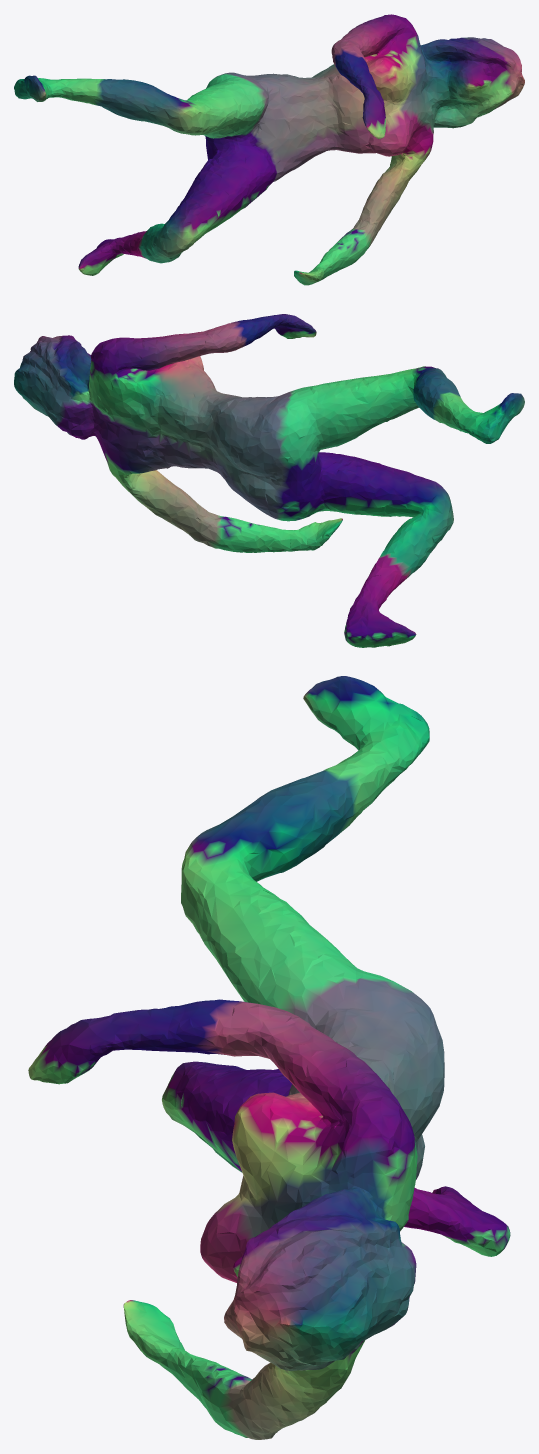
Rendered from woman-11.off.obj.
3 renders of one model, top to bottom at view 1: azimuth 30°, elevation 25°; view 2: azimuth 150°, elevation 25°; view 3: azimuth 270°, elevation 25°, orthographic. The views are drawn at different scales.
Size of the model in its own units: 1.57 by 0.7535 by 0.6909.
